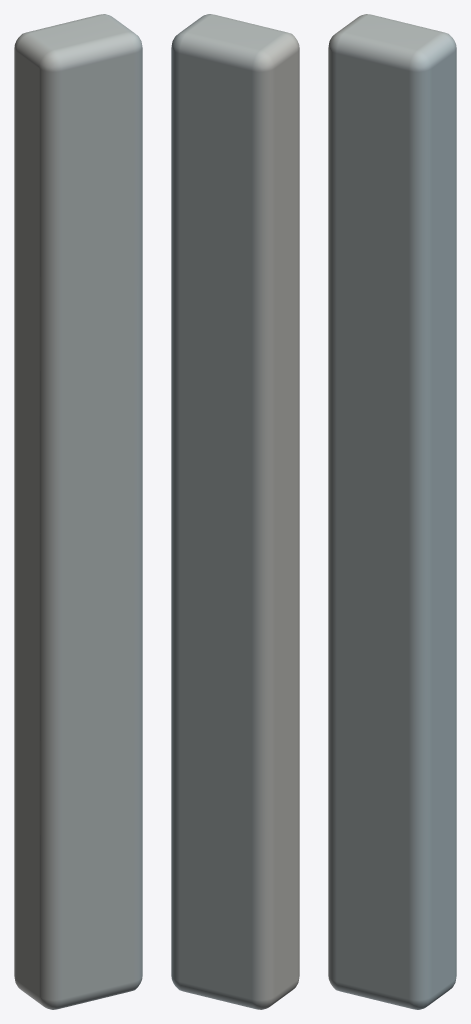
Rendered from modelI.glb.
3 renders of one model, left to right at view 1: azimuth 30°, elevation 25°; view 2: azimuth 150°, elevation 25°; view 3: azimuth 330°, elevation 25°, orthographic.
Visible parts, largest first — view 1: l.1; view 2: l.1; view 3: l.1.
Part boxes in pixels (x1,y1,x2,y2): l.1: (14,14,142,1009); l.1: (171,14,299,1009); l.1: (328,14,456,1009).
Bounding box in the file's own units: 0.0332 × 0.3 × 0.0223.
1 material, 1 textured.
